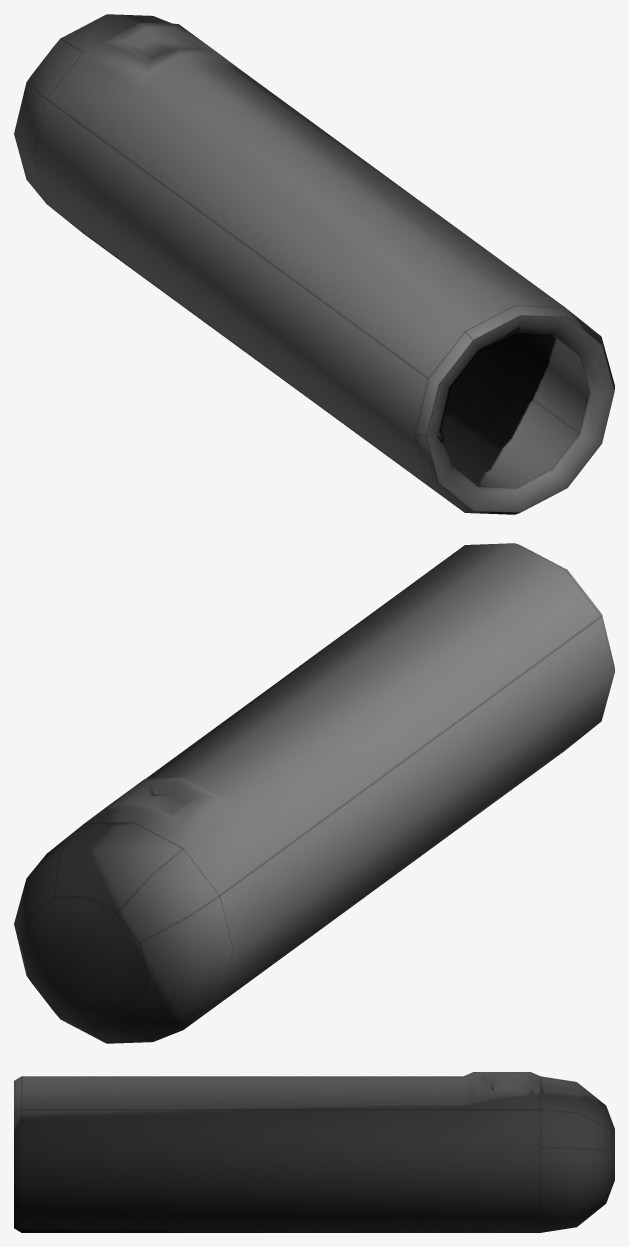
File: barrel.obj
The picture shows the model from 3 angles, top to bottom: view 1: azimuth 30°, elevation 25°; view 2: azimuth 150°, elevation 25°; view 3: azimuth 270°, elevation 25°; orthographic projection. The views are drawn at different scales.
Visible parts, largest first — view 1: Cylinder002; view 2: Cylinder002; view 3: Cylinder002.
Part boxes in pixels (<box>): Cylinder002: <box>14,14,614,514</box>; Cylinder002: <box>14,543,614,1043</box>; Cylinder002: <box>14,1072,614,1232</box>.
Bounding box in the file's own units: 31.33 × 32.64 × 120.
1 material, 1 textured.
